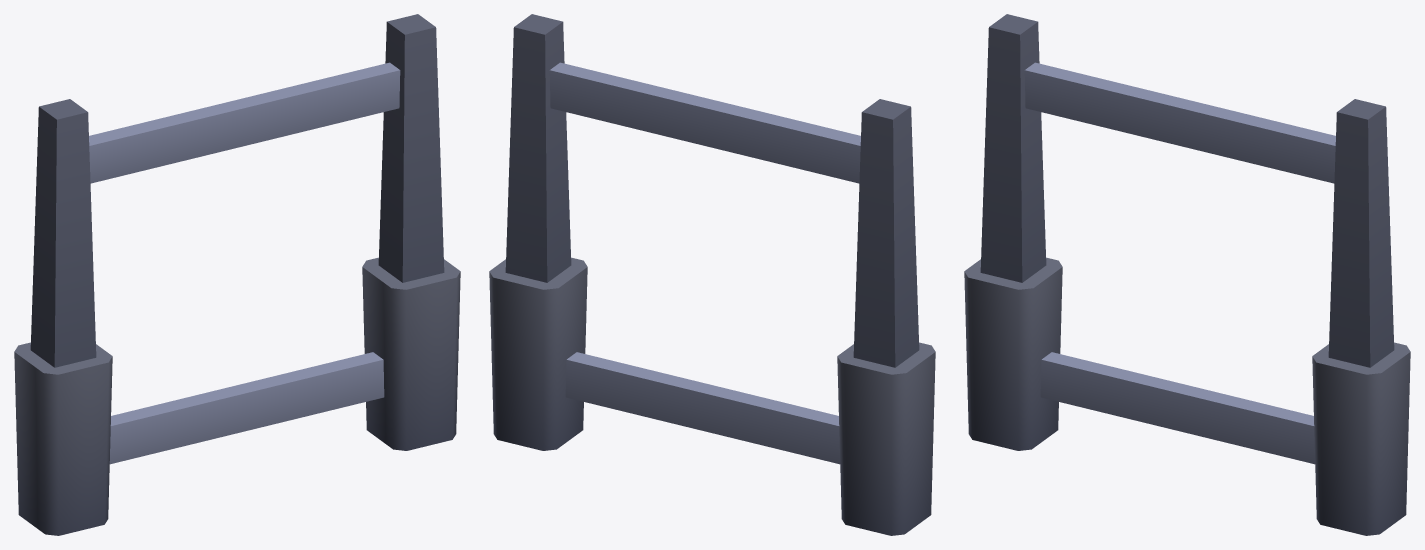
File: structure-metal-wall.glb
3 views of the same model, side by side, from view 1: azimuth 30°, elevation 25°; view 2: azimuth 150°, elevation 25°; view 3: azimuth 330°, elevation 25° (orthographic).
Parts seen in each view (by area): view 1: structure-metal-wall; view 2: structure-metal-wall; view 3: structure-metal-wall.
Boxes of the visible parts, <box> form: structure-metal-wall: <box>14,14,460,535</box>; structure-metal-wall: <box>489,14,935,535</box>; structure-metal-wall: <box>964,14,1410,535</box>.
Size of the model in its own units: 0.5354 by 0.5 by 0.0889.
